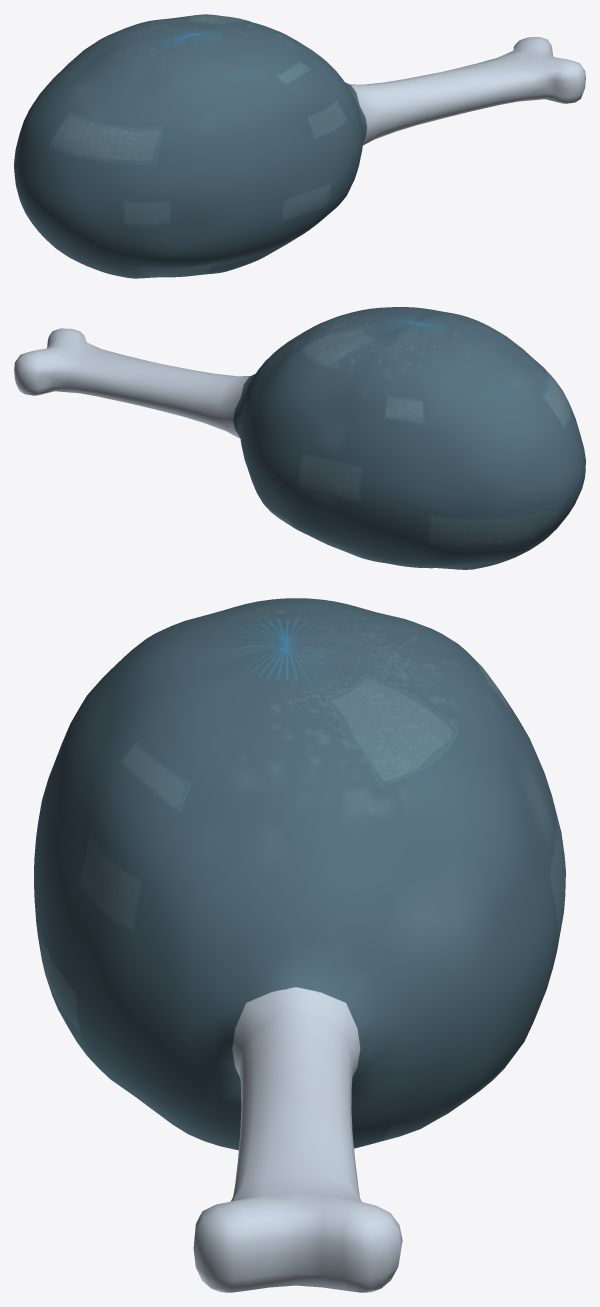
Rendered from Frozen Meat Textured.fbx.
The picture shows the model from 3 angles, top to bottom: view 1: azimuth 30°, elevation 25°; view 2: azimuth 150°, elevation 25°; view 3: azimuth 270°, elevation 25°; orthographic projection. The views are drawn at different scales.
Visible parts, largest first — view 1: Sphere001; view 2: Sphere001; view 3: Sphere001.
Part boxes in pixels (x1,y1,x2,y2): Sphere001: (14, 14, 585, 278); Sphere001: (14, 307, 585, 569); Sphere001: (34, 598, 565, 1292).
Bounding box in the file's own units: 6.06 × 2.46 × 2.59.
1 material, 1 textured.
